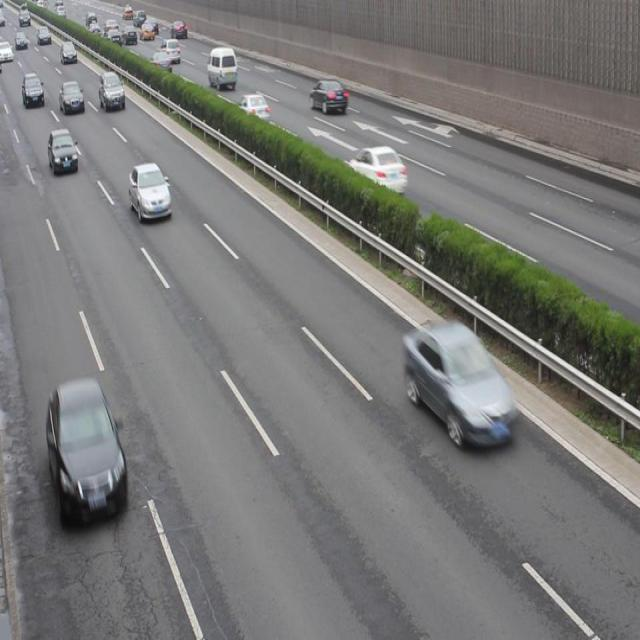car: (403, 318, 516, 447), (45, 379, 129, 528), (349, 144, 405, 196), (129, 160, 172, 224), (309, 77, 347, 116), (49, 128, 78, 178), (235, 92, 269, 130)
